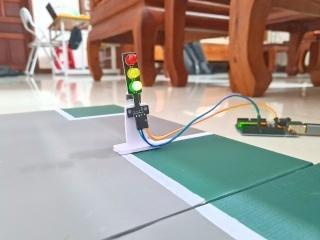green: (104, 44, 157, 107)
